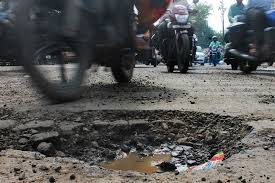potholes: (15, 52, 275, 176)
